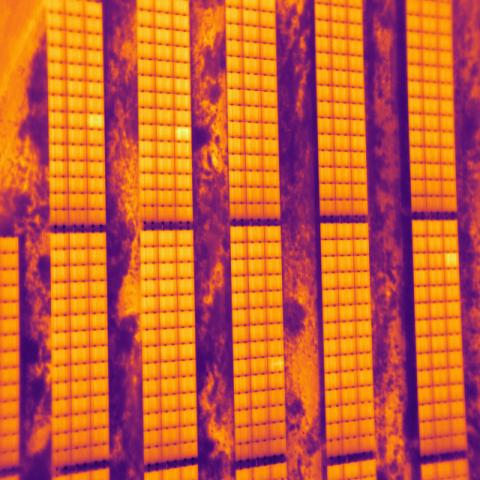fault: (174, 126, 192, 142), (87, 112, 104, 128), (445, 252, 459, 268)
